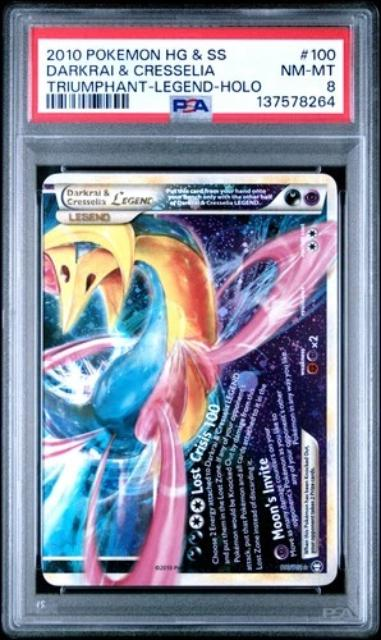Card: (37, 168, 343, 590)
Name: (64, 184, 160, 211)
